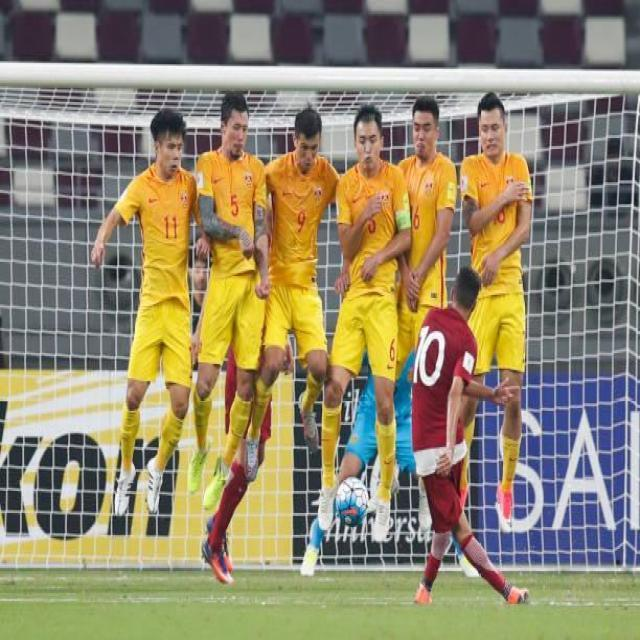ball: (332, 476, 370, 529)
player: (92, 113, 202, 527), (407, 270, 529, 611), (315, 105, 410, 533), (251, 107, 346, 479), (180, 96, 269, 492), (466, 89, 540, 513), (391, 91, 456, 300)
